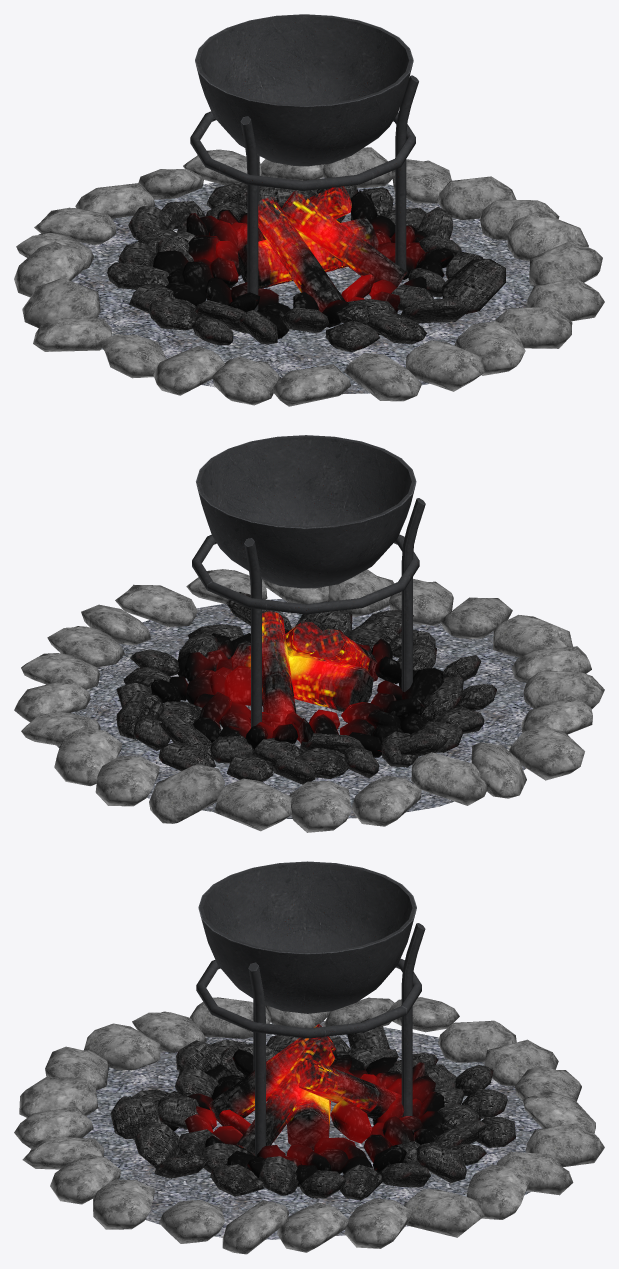
File: fireplace.fbx
3 views of the same model, one above another, from view 1: azimuth 30°, elevation 25°; view 2: azimuth 150°, elevation 25°; view 3: azimuth 270°, elevation 25° (orthographic).
Visible parts, largest first — view 1: fireplace_shape, pepel; view 2: fireplace_shape, pepel; view 3: fireplace_shape, pepel.
Boxes of the visible parts, left/top/right/bottom form: fireplace_shape: left=14, top=14, right=604, bottom=406; pepel: left=71, top=177, right=533, bottom=394; fireplace_shape: left=14, top=435, right=604, bottom=832; pepel: left=56, top=599, right=532, bottom=818; fireplace_shape: left=14, top=861, right=604, bottom=1254; pepel: left=83, top=1021, right=541, bottom=1239.
Size of the model in its own units: 17.32 by 7.46 by 16.88.
2 materials, 2 textured.
